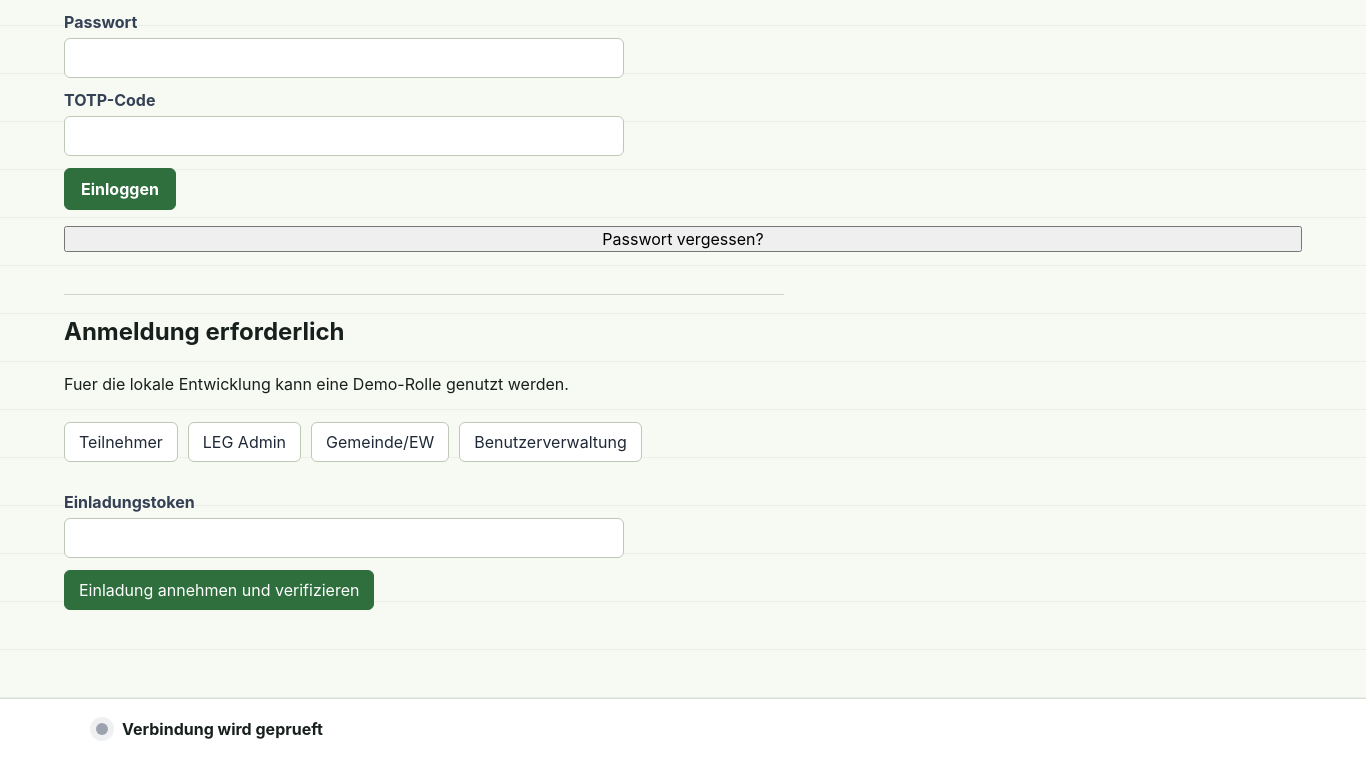
Portal shell › zeigt Gemeinde/EW aktive Partner-Aufgaben aus Paket-Follow-ups
(page scrolled)
Click the button "Gemeinde/EW": click(380, 442) left=311, top=422, right=449, bottom=462
(page scrolled)
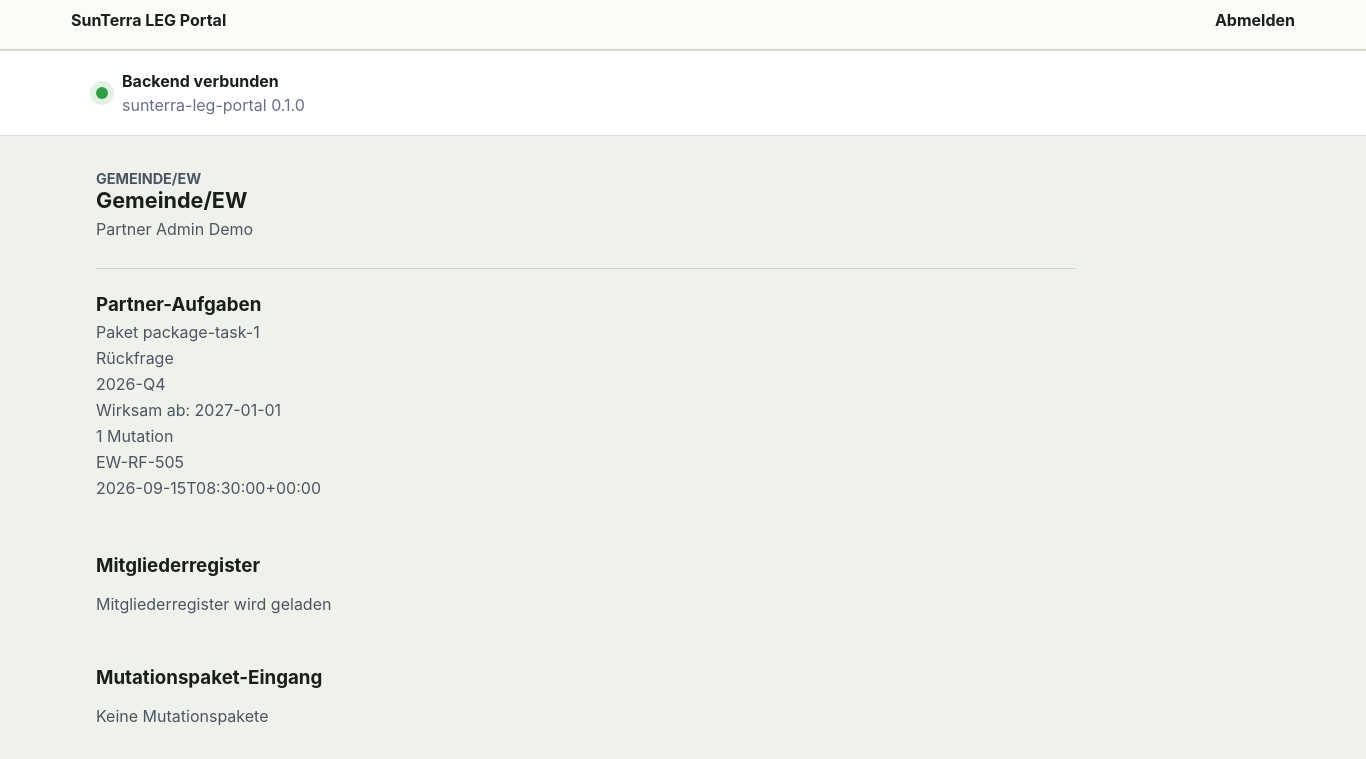
expect the heading "Partner-Aufgaben" is shown: met, box left=96, top=292, right=261, bottom=316
expect the text "Paket package-task-1" is shown: met, box left=96, top=322, right=260, bottom=342
expect the text "Rückfrage" is shown: met, box left=96, top=348, right=174, bottom=368
